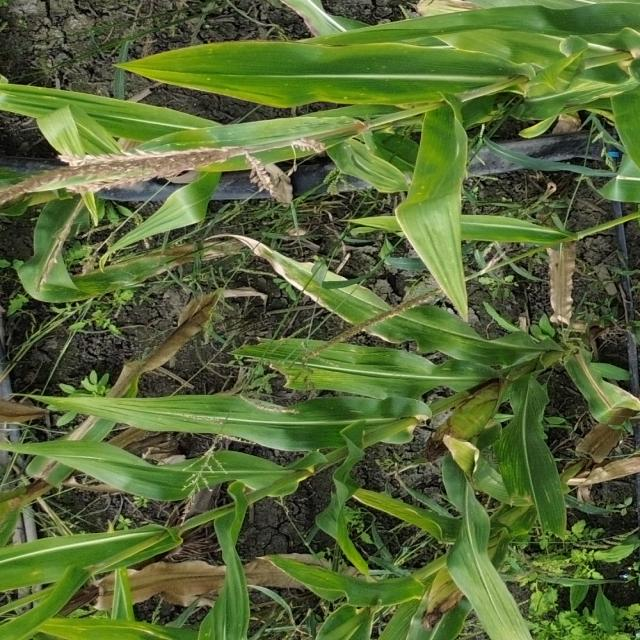gray-leaf-spot: (486, 423, 573, 529), (388, 342, 510, 396)
northern-leaf-blight: (242, 233, 415, 357), (66, 223, 224, 308)
southern-leaf-blight: (187, 44, 474, 114), (388, 169, 477, 298), (128, 130, 245, 187)
